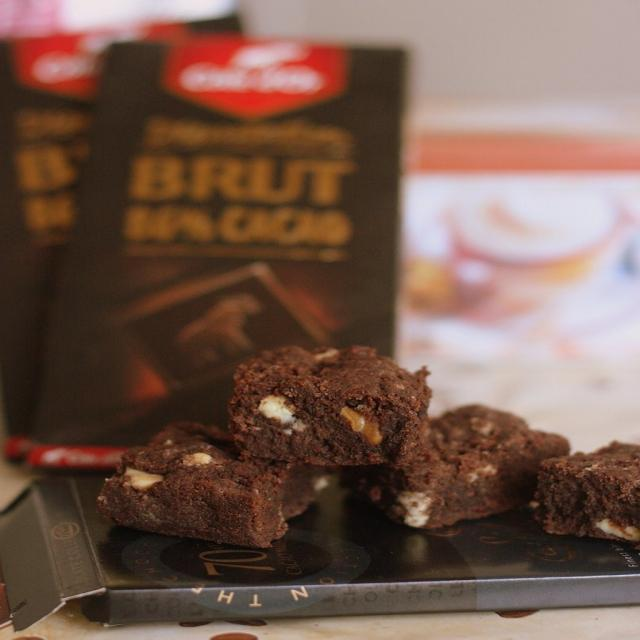Cookie: (93, 419, 343, 549), (358, 401, 572, 532), (222, 340, 436, 469), (536, 436, 639, 550)
